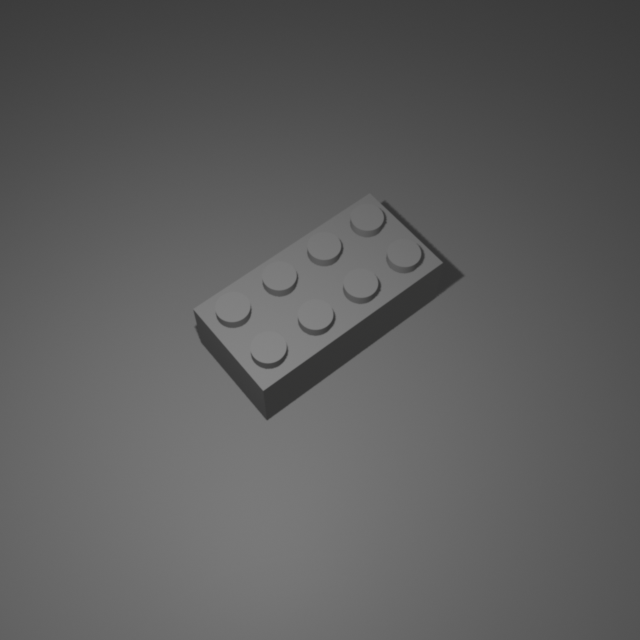lego_2x4: (192, 186, 444, 421)
